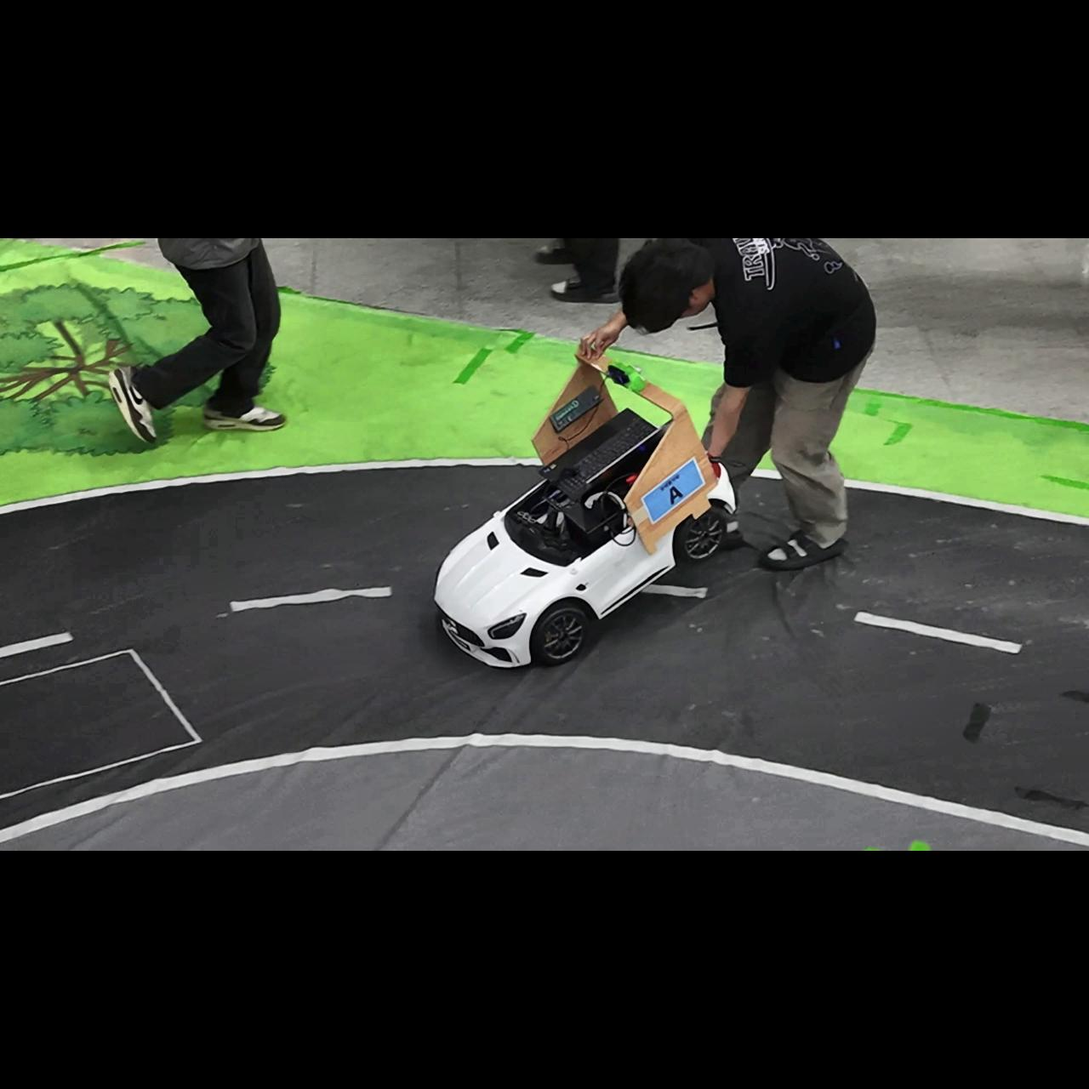broken_line: (853, 611, 1022, 653), (229, 586, 393, 612), (0, 631, 74, 658), (641, 584, 708, 598)
